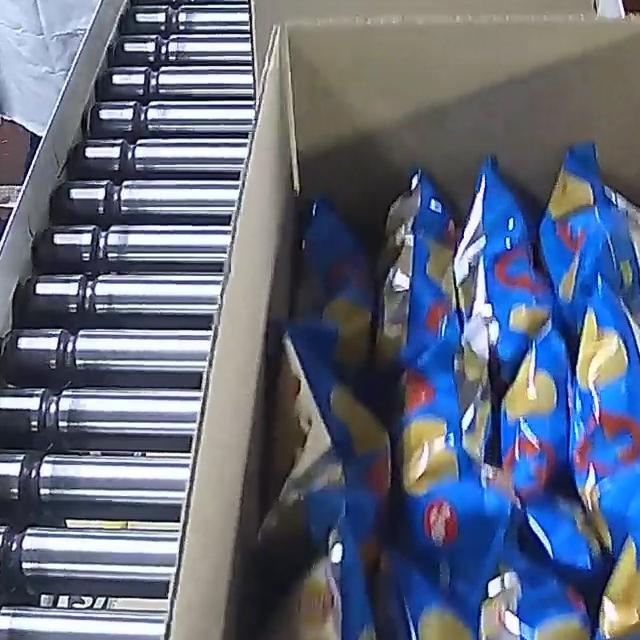paprika: (257, 142, 640, 640)
